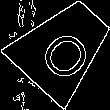O_NE: (30, 14, 97, 80)
